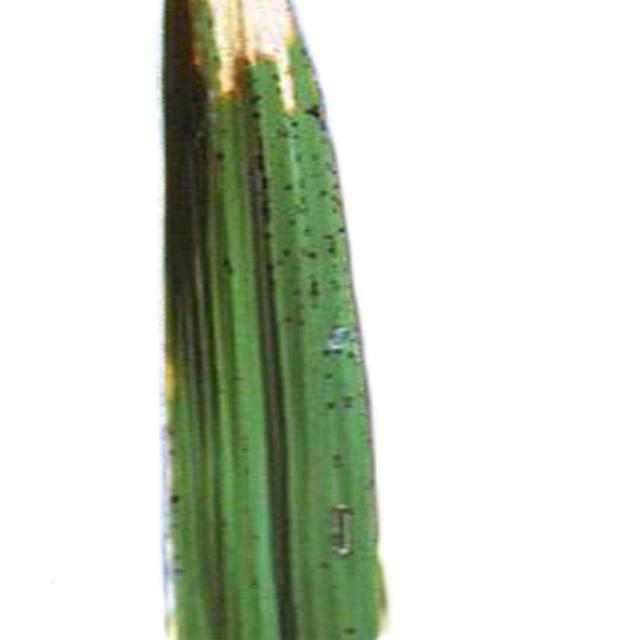Leaf scald: (29, 0, 434, 640)
